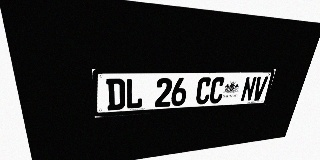2: (155, 78, 173, 107)
6: (171, 78, 188, 106)
C: (208, 77, 226, 104), (195, 77, 212, 105)
D: (106, 78, 125, 110)
L: (125, 78, 143, 109)
N: (240, 76, 257, 102)
V: (251, 76, 268, 101)
